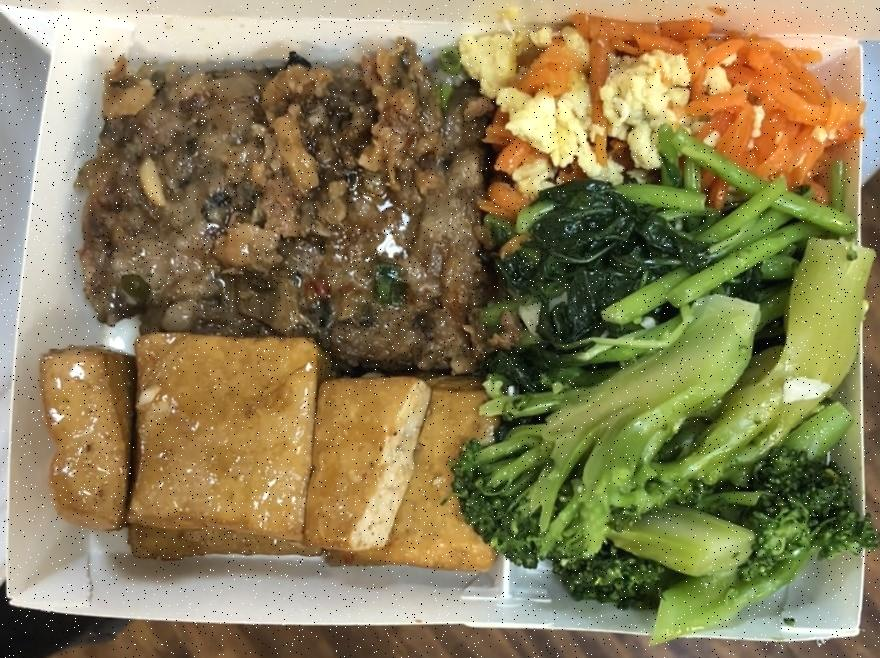big grilled chicken leg: (7, 16, 880, 649)
braised fish fillet: (456, 239, 872, 621), (40, 329, 496, 580), (476, 28, 841, 198), (504, 170, 840, 354)
braised pork: (79, 44, 498, 372)
